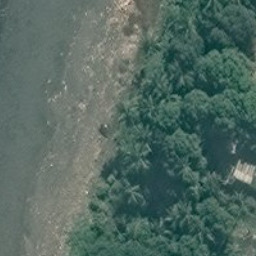buildings: (227, 158, 256, 191)
